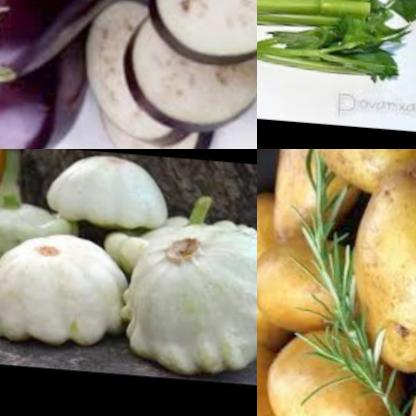celery: (257, 0, 416, 88)
eggplant: (0, 0, 257, 104), (83, 0, 257, 149), (0, 0, 102, 149)
potato: (351, 149, 416, 387), (261, 317, 390, 416), (257, 229, 364, 330), (266, 149, 360, 251), (292, 149, 416, 207), (257, 334, 310, 416), (257, 189, 275, 370)
squash-patisson: (125, 223, 257, 373), (0, 224, 135, 354), (44, 149, 171, 231), (131, 191, 257, 236), (0, 175, 75, 248)
